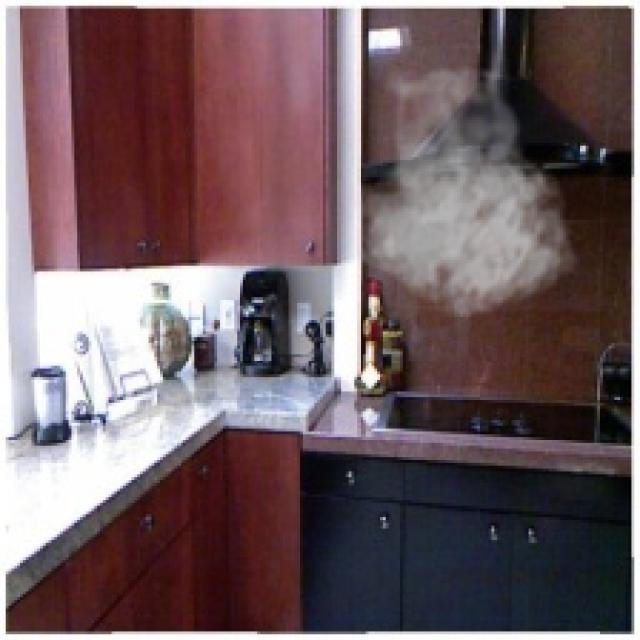Smoke: (343, 46, 580, 320)
